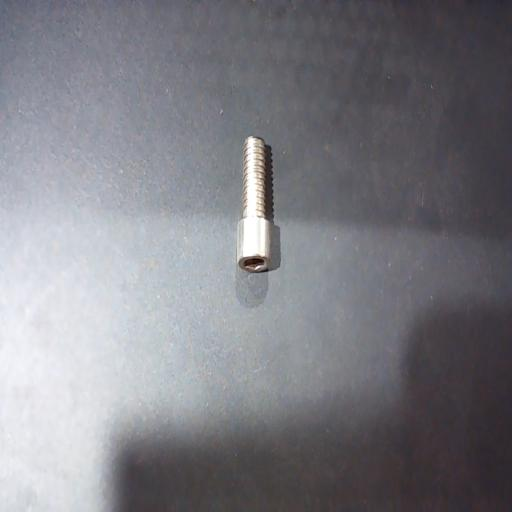screw: (237, 136, 271, 273)
